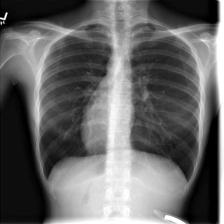normal: (31, 19, 202, 187)
